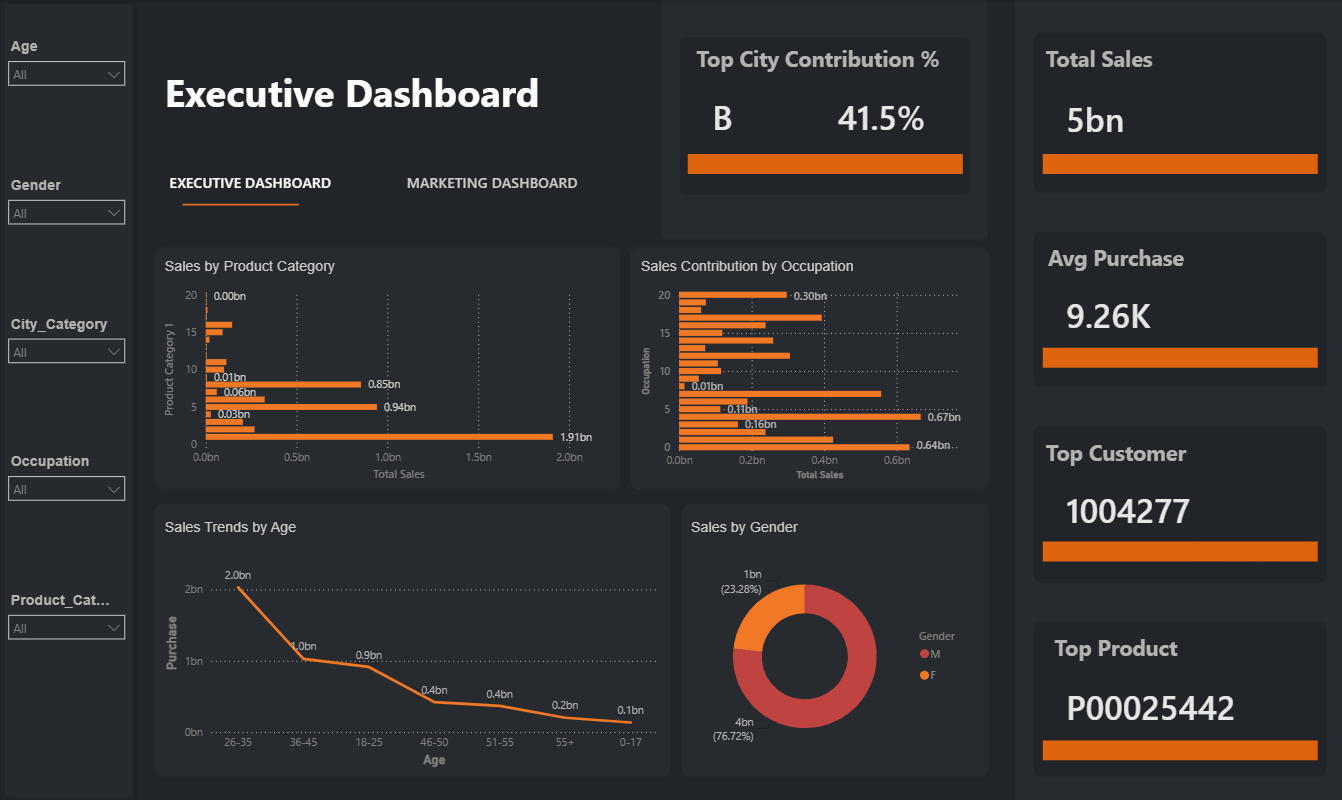

Layout of this report page (visuals, bound fields, positions):
{"tool":"powerbi","page":{"name":"EXECUTIVE DASHBOARD","canvas":[1500,900],"ordinal":0},"visuals":[{"type":"textbox","box":[180.1,69.8,738.4,86.5],"z":0},{"type":"pageNavigator","box":[150.7,173.1,531.8,62.8],"z":1000},{"type":"textbox","box":[180.1,284.7,224.7,29.3],"z":2000},{"type":"textbox","box":[180.1,576.5,180.1,29.3],"z":3000},{"type":"textbox","box":[711.9,284.7,255.4,29.3],"z":4000},{"type":"textbox","box":[767.7,576.5,160.5,29.3],"z":5000},{"type":"textbox","box":[1162.7,46.1,131.2,46.1],"z":6000},{"type":"textbox","box":[1162.7,268,168.9,46.1],"z":7000},{"type":"textbox","box":[1162.7,485.7,168.9,46.1],"z":8000},{"type":"textbox","box":[1162.7,703.5,168.9,46.1],"z":9000},{"type":"clusteredBarChart","fields":{"Category":["black_friday_sales_analysis black_friday_data.Product_Category_1"],"Y":["black_friday_sales_analysis black_friday_data.Total_Sales"]},"box":[180.1,314.1,502.5,228.9],"z":10000},{"type":"barChart","fields":{"Category":["black_friday_sales_analysis black_friday_data.Occupation"],"Y":["black_friday_sales_analysis black_friday_data.Total_Sales"]},"box":[711.9,314.1,382.4,228.9],"z":11000},{"type":"donutChart","fields":{"Category":["black_friday_sales_analysis black_friday_data.Gender"],"Y":["black_friday_sales_analysis black_friday_data.Total_Sales"]},"box":[767.7,605.8,326.6,256.8],"z":12000},{"type":"lineChart","fields":{"Category":["black_friday_sales_analysis black_friday_data.Age"],"Y":["Sum(black_friday_sales_analysis black_friday_data.Purchase)"]},"box":[180.1,605.8,559.7,256.8],"z":13000},{"type":"cardVisual","fields":{"Data":["black_friday_sales_analysis black_friday_data.Total_Sales"]},"box":[1162.7,92.1,312.7,81],"z":14000},{"type":"cardVisual","fields":{"Data":["black_friday_sales_analysis black_friday_data.Avg_Purchase"]},"box":[1162.7,314.1,312.7,75.4],"z":15000},{"type":"cardVisual","fields":{"Data":["black_friday_sales_analysis black_friday_data.Top Customer"]},"box":[1162.7,531.8,312.7,74],"z":16000},{"type":"cardVisual","fields":{"Data":["black_friday_sales_analysis black_friday_data.Top Product"]},"box":[1162.7,749.5,312.7,78.2],"z":17000},{"type":"shape","box":[739.8,0,364.3,268],"z":18000},{"type":"shape","box":[759.3,41.9,326.6,177.3],"z":19000},{"type":"textbox","box":[767.7,46.1,293.1,53],"z":20000},{"type":"cardVisual","fields":{"Data":["black_friday_sales_analysis black_friday_data.Top City Contribution","black_friday_sales_analysis black_friday_data.City Contribution %"]},"box":[767.7,86.5,307.1,86.5],"z":21000},{"type":"shape","box":[769.1,173.1,307.1,22.3],"z":22000},{"type":"shape","box":[1165.5,173.1,307.1,22.3],"z":23000},{"type":"shape","box":[1165.5,389.4,307.1,22.3],"z":24000},{"type":"shape","box":[1165.5,605.8,307.1,22.3],"z":25000},{"type":"shape","box":[1165.5,827.7,307.1,22.3],"z":26000},{"type":"shape","box":[205.2,205.2,129.8,48.9],"z":27000},{"type":"slicer","fields":{"Values":["black_friday_sales_analysis black_friday_data.Age"]},"box":[0,39.1,150.7,60],"z":28000},{"type":"slicer","fields":{"Values":["black_friday_sales_analysis black_friday_data.Gender"]},"box":[0,193.7,150.7,60],"z":29000},{"type":"slicer","fields":{"Values":["black_friday_sales_analysis black_friday_data.City_Category"]},"box":[0,348.2,150.7,60],"z":30000},{"type":"slicer","fields":{"Values":["black_friday_sales_analysis black_friday_data.Occupation"]},"box":[0,502.8,150.7,60],"z":31000},{"type":"slicer","fields":{"Values":["black_friday_sales_analysis black_friday_data.Product_Category_1"]},"box":[0,657.4,150.7,60],"z":32000}]}

Visuals, with their boxes in screenshot pixels (x1, y1, x2, y2), scaled from the page's 1500x900 canvas onto the 1342x800 screenshot:
textbox: <box>161,62,822,139</box>
pageNavigator: <box>135,154,611,210</box>
textbox: <box>161,253,362,279</box>
textbox: <box>161,512,322,538</box>
textbox: <box>637,253,865,279</box>
textbox: <box>687,512,830,538</box>
textbox: <box>1040,41,1158,82</box>
textbox: <box>1040,238,1191,279</box>
textbox: <box>1040,432,1191,473</box>
textbox: <box>1040,625,1191,666</box>
clusteredBarChart - black_friday_sales_analysis black_friday_data.Product_Category_1 x black_friday_sales_analysis black_friday_data.Total_Sales: <box>161,279,611,483</box>
barChart - black_friday_sales_analysis black_friday_data.Occupation x black_friday_sales_analysis black_friday_data.Total_Sales: <box>637,279,979,483</box>
donutChart - black_friday_sales_analysis black_friday_data.Gender x black_friday_sales_analysis black_friday_data.Total_Sales: <box>687,538,979,767</box>
lineChart - black_friday_sales_analysis black_friday_data.Age x Sum(black_friday_sales_analysis black_friday_data.Purchase): <box>161,538,662,767</box>
cardVisual - black_friday_sales_analysis black_friday_data.Total_Sales: <box>1040,82,1320,154</box>
cardVisual - black_friday_sales_analysis black_friday_data.Avg_Purchase: <box>1040,279,1320,346</box>
cardVisual - black_friday_sales_analysis black_friday_data.Top Customer: <box>1040,473,1320,538</box>
cardVisual - black_friday_sales_analysis black_friday_data.Top Product: <box>1040,666,1320,736</box>
shape: <box>662,0,988,238</box>
shape: <box>679,37,972,195</box>
textbox: <box>687,41,949,88</box>
cardVisual - black_friday_sales_analysis black_friday_data.Top City Contribution x black_friday_sales_analysis black_friday_data.City Contribution %: <box>687,77,962,154</box>
shape: <box>688,154,963,174</box>
shape: <box>1043,154,1317,174</box>
shape: <box>1043,346,1317,366</box>
shape: <box>1043,538,1317,558</box>
shape: <box>1043,736,1317,756</box>
shape: <box>184,182,300,226</box>
slicer - black_friday_sales_analysis black_friday_data.Age: <box>0,35,135,88</box>
slicer - black_friday_sales_analysis black_friday_data.Gender: <box>0,172,135,226</box>
slicer - black_friday_sales_analysis black_friday_data.City_Category: <box>0,310,135,363</box>
slicer - black_friday_sales_analysis black_friday_data.Occupation: <box>0,447,135,500</box>
slicer - black_friday_sales_analysis black_friday_data.Product_Category_1: <box>0,584,135,638</box>
